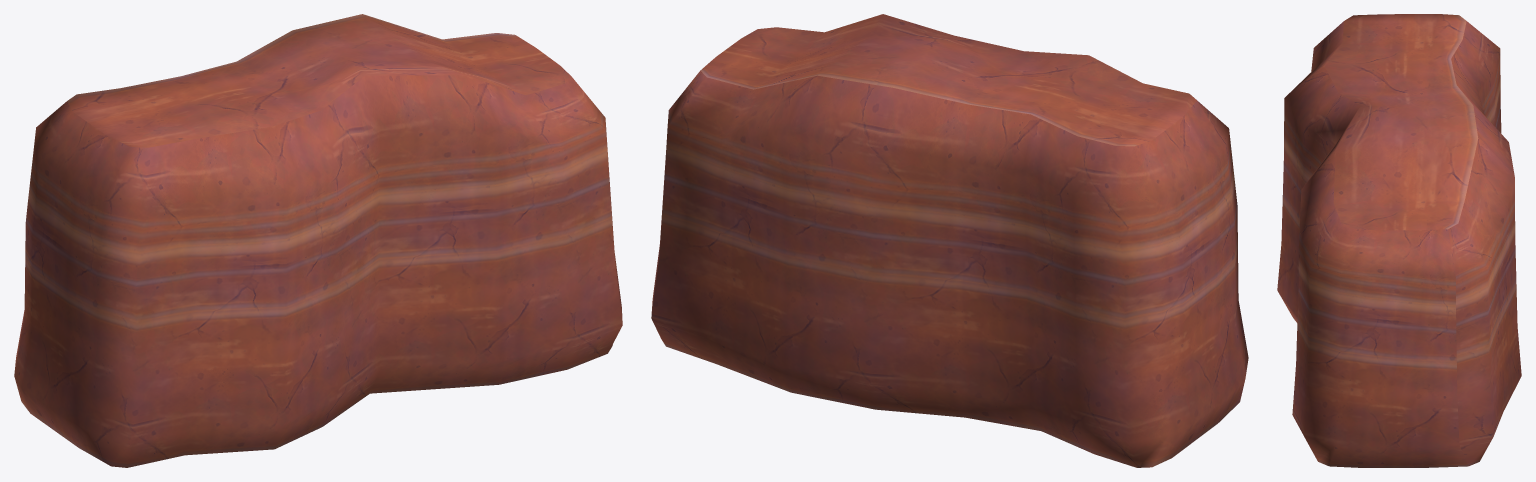
The model's file is SM_Cliff01.fbx.
3 renders of one model, left to right at view 1: azimuth 30°, elevation 25°; view 2: azimuth 150°, elevation 25°; view 3: azimuth 270°, elevation 25°, orthographic. The views are drawn at different scales.
Parts seen in each view (by area): view 1: SM_Cliff01; view 2: SM_Cliff01; view 3: SM_Cliff01.
Part boxes in pixels (x1,y1,x2,y2): SM_Cliff01: (14, 14, 622, 467); SM_Cliff01: (651, 14, 1248, 467); SM_Cliff01: (1277, 14, 1521, 467).
Size of the model in its own units: 1675 by 933 by 777.
